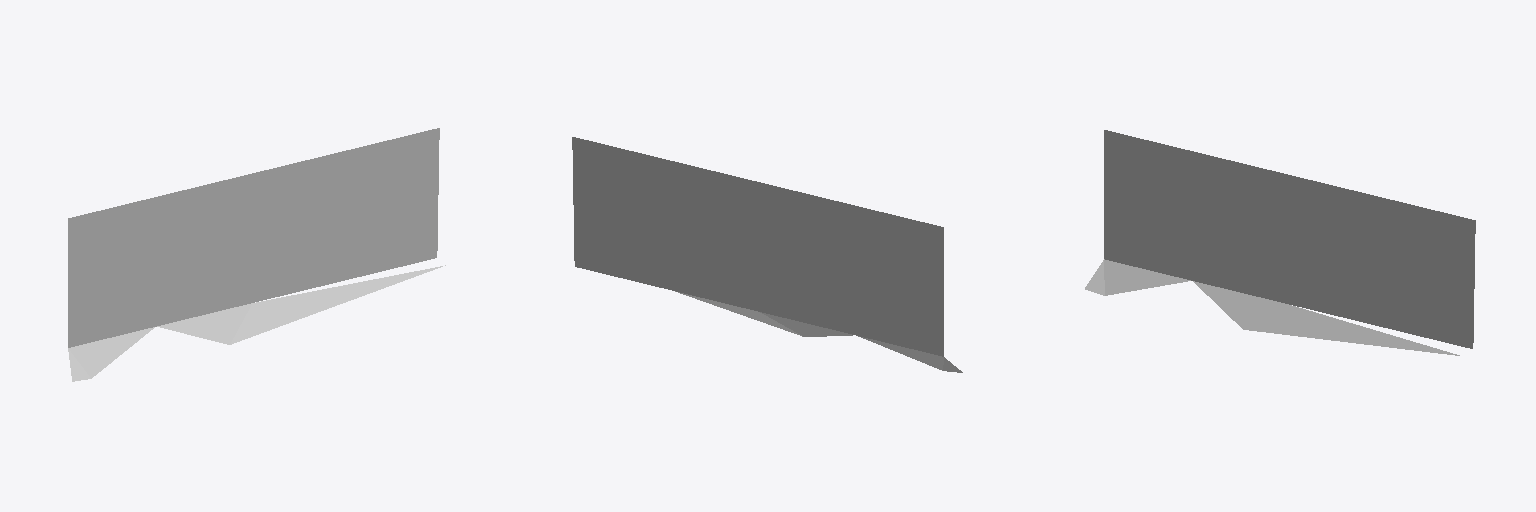
File: original-63.obj
The picture shows the model from 3 angles: view 1: azimuth 30°, elevation 25°; view 2: azimuth 150°, elevation 25°; view 3: azimuth 330°, elevation 25°; orthographic projection.
Visible parts, largest first — view 1: #ID381; view 2: #ID381; view 3: #ID381.
Boxes of the visible parts, box(x1,y1,x2,y2) form: #ID381: box(68, 128, 445, 381); #ID381: box(572, 137, 962, 372); #ID381: box(1085, 130, 1475, 355).
Bounding box in the file's own units: 0.6278 × 0.2453 × 0.0345.